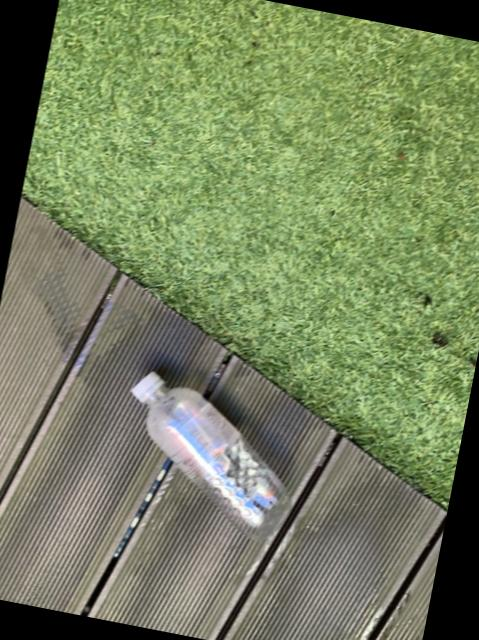plastic: (129, 371, 286, 539)
